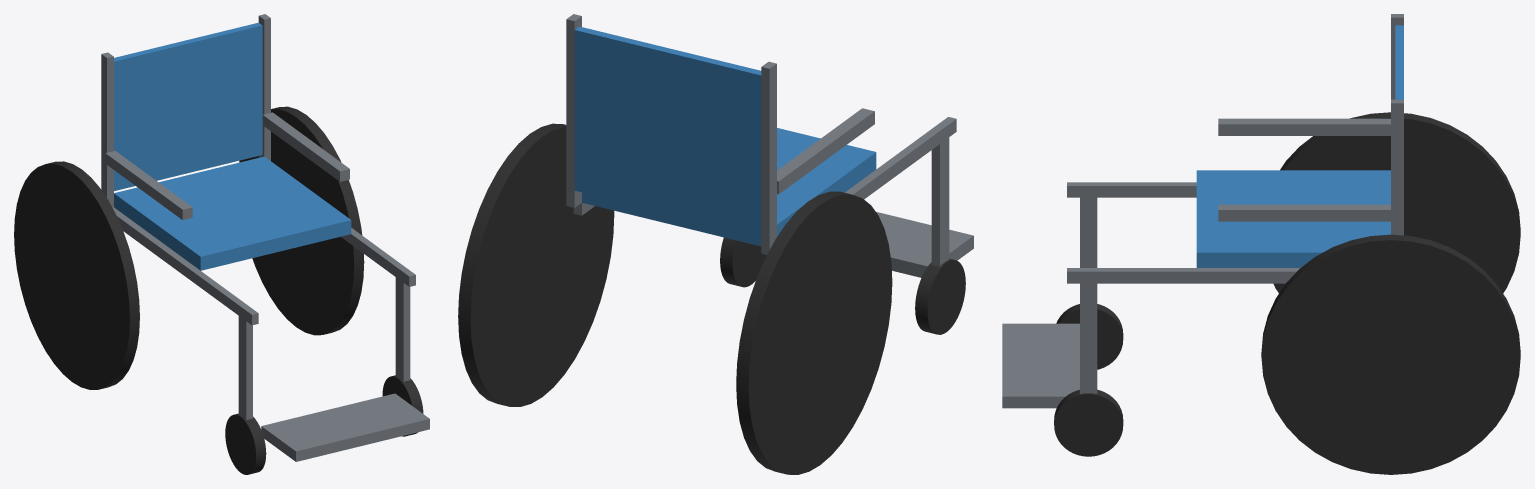
The model's file is silla_ruedas.glb.
3 renders of one model, left to right at view 1: azimuth 30°, elevation 25°; view 2: azimuth 150°, elevation 25°; view 3: azimuth 270°, elevation 25°, orthographic. The views are drawn at different scales.
Visible parts, largest first — view 1: silla_ruedas_0.70x1.20x0.90m; view 2: silla_ruedas_0.70x1.20x0.90m; view 3: silla_ruedas_0.70x1.20x0.90m.
Boxes of the visible parts, x1,y1,x2,y2 form: silla_ruedas_0.70x1.20x0.90m: (14,14,429,474); silla_ruedas_0.70x1.20x0.90m: (458,14,973,474); silla_ruedas_0.70x1.20x0.90m: (1002,14,1520,474).
Bounding box in the file's own units: 0.7 × 0.9 × 1.2.
